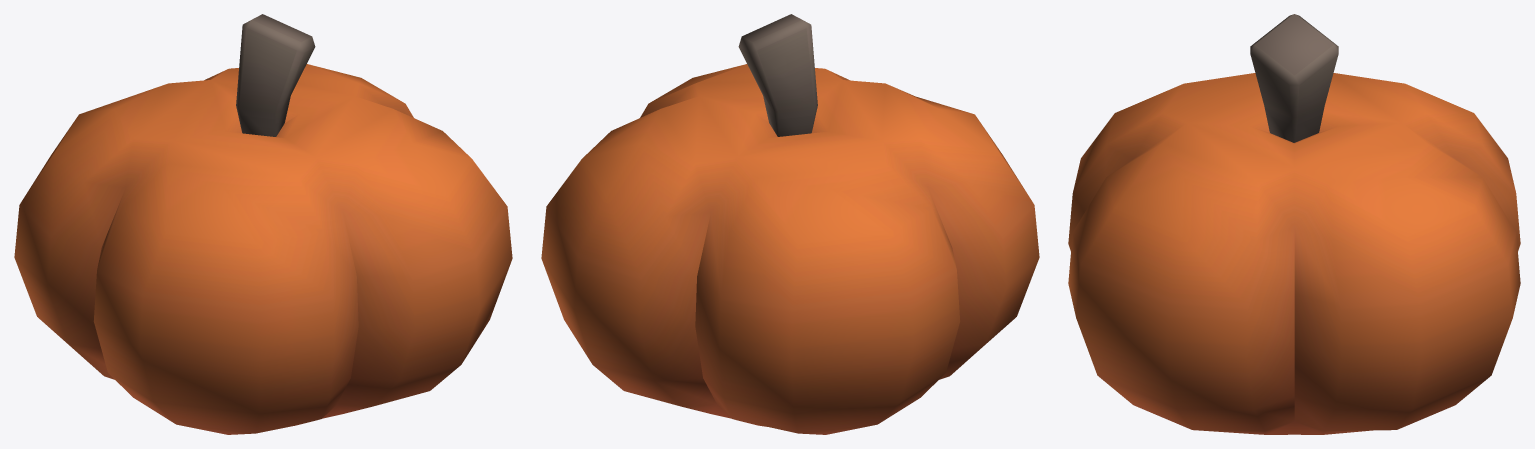
File: kaykit-halloween-bits-pumpkin-orange-small.glb
3 renders of one model, left to right at view 1: azimuth 30°, elevation 25°; view 2: azimuth 150°, elevation 25°; view 3: azimuth 270°, elevation 25°, orthographic.
Parts seen in each view (by area): view 1: pumpkin_orange_small; view 2: pumpkin_orange_small; view 3: pumpkin_orange_small.
Boxes of the visible parts, box(x1,y1,x2,y2) form: pumpkin_orange_small: box(14, 14, 512, 434); pumpkin_orange_small: box(541, 14, 1039, 434); pumpkin_orange_small: box(1068, 14, 1520, 434).
Bounding box in the file's own units: 0.6 × 0.55 × 0.6.
1 material, 1 textured.
